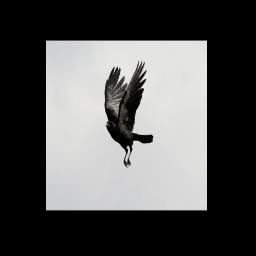Crow: (103, 59, 154, 170)
